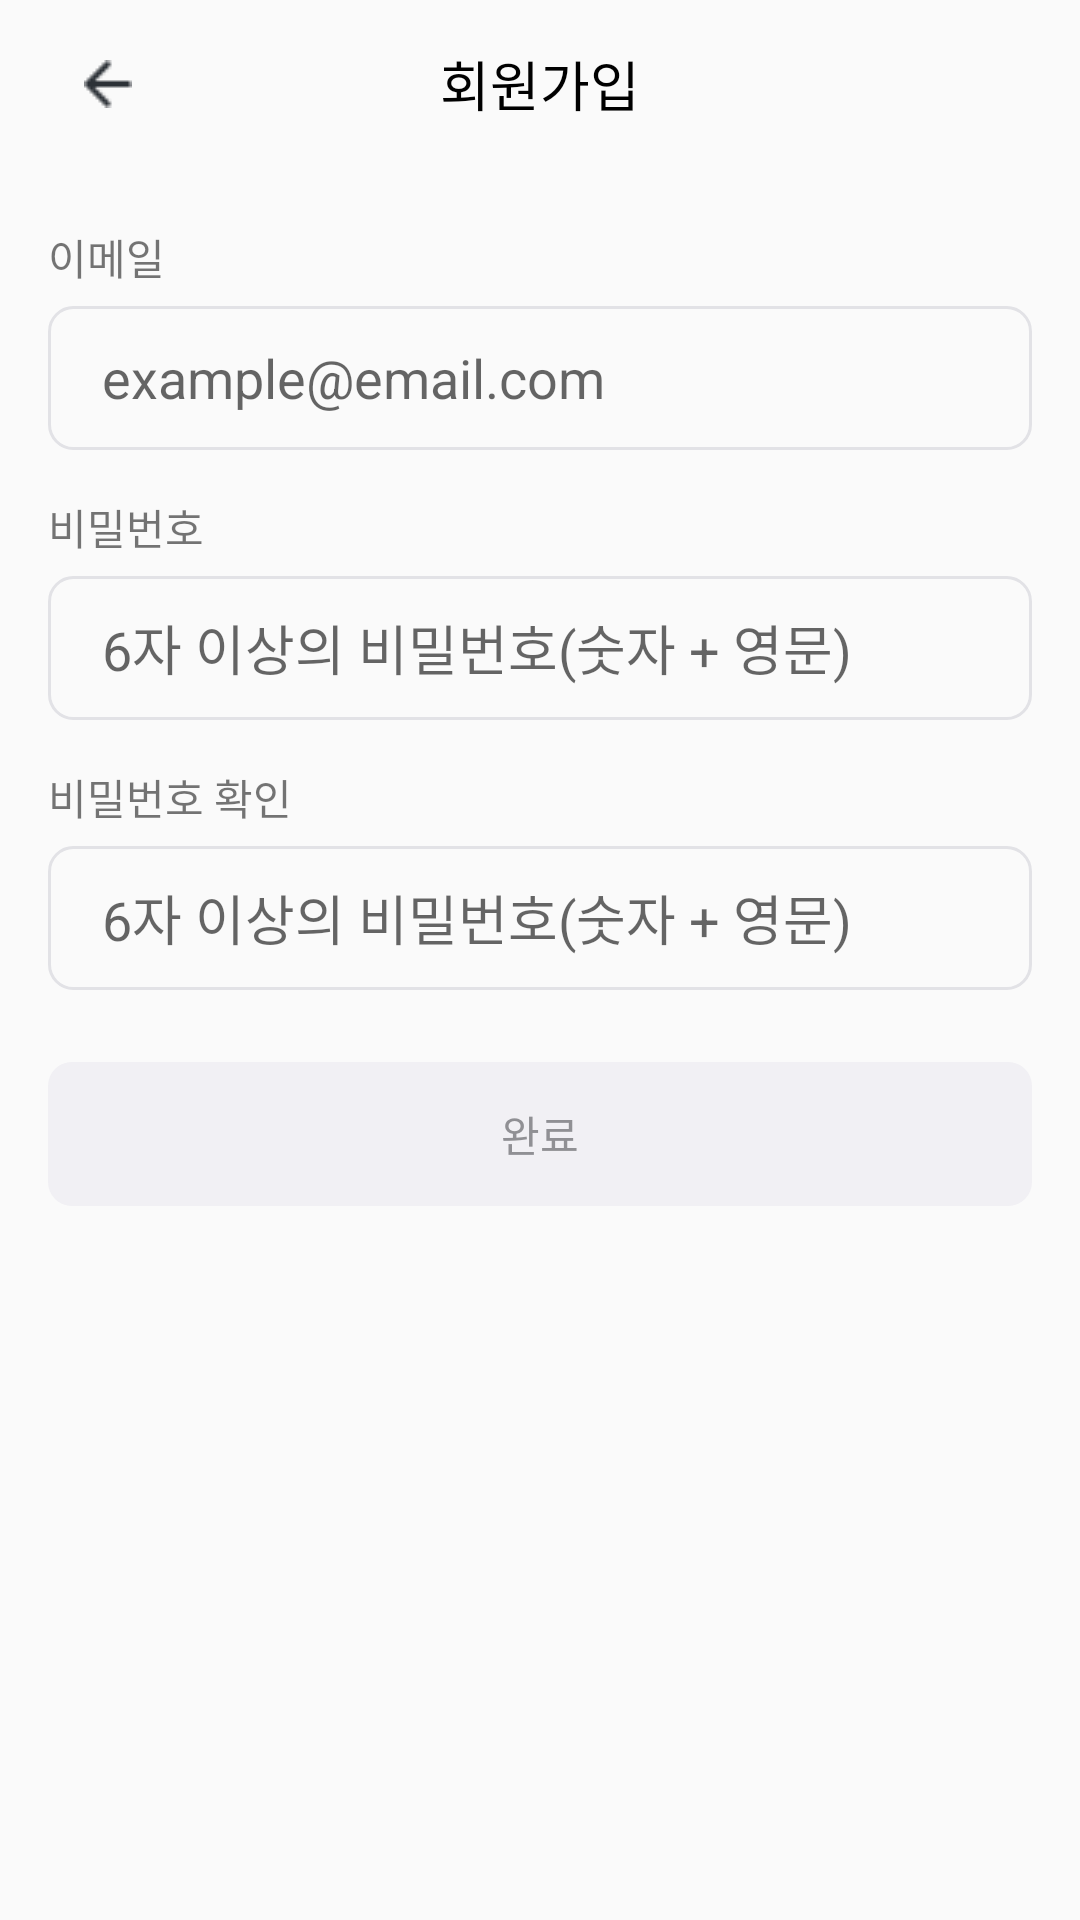

Locate icon controls on the screen. Image size 1080 x 1920, boxes as box=[x1, y1, x2, y2].
back arrow: box=[84, 60, 132, 108]
